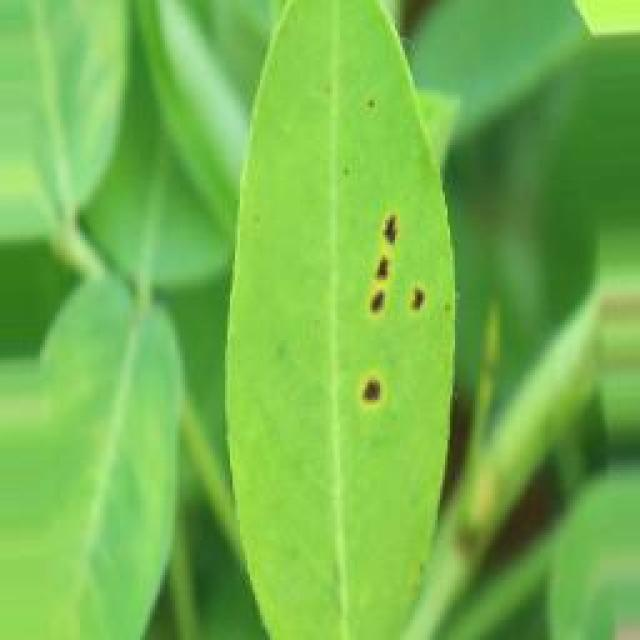Sigatoka: (368, 185, 438, 340), (329, 360, 412, 416)
